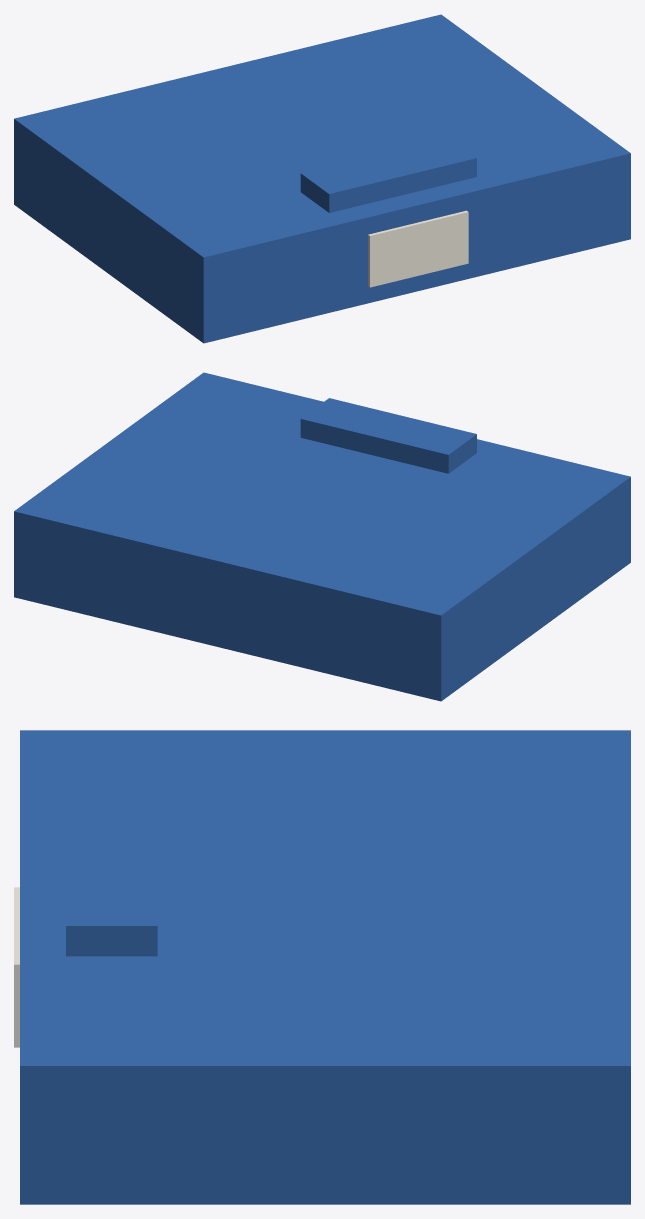
The model's file is product-shirt.glb.
The picture shows the model from 3 angles, top to bottom: view 1: azimuth 30°, elevation 25°; view 2: azimuth 150°, elevation 25°; view 3: azimuth 270°, elevation 25°; orthographic projection. The views are drawn at different scales.
Parts seen in each view (by area): view 1: Fold, Collar, Label; view 2: Fold, Collar; view 3: Fold, Collar, Label.
Boxes of the visible parts, <box> form: Fold: <box>14,14,630,343</box>; Collar: <box>300,137,476,212</box>; Label: <box>368,210,468,287</box>; Fold: <box>14,372,630,701</box>; Collar: <box>300,398,476,473</box>; Fold: <box>20,730,630,1204</box>; Collar: <box>66,809,157,956</box>; Label: <box>14,887,19,1047</box>.
Bounding box in the file's own units: 0.26 × 0.061 × 0.202.
